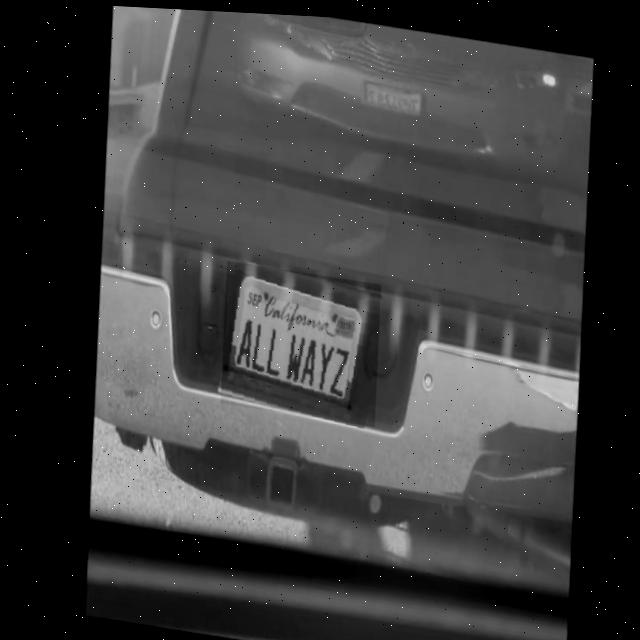LicensePlate: (209, 257, 384, 424)
